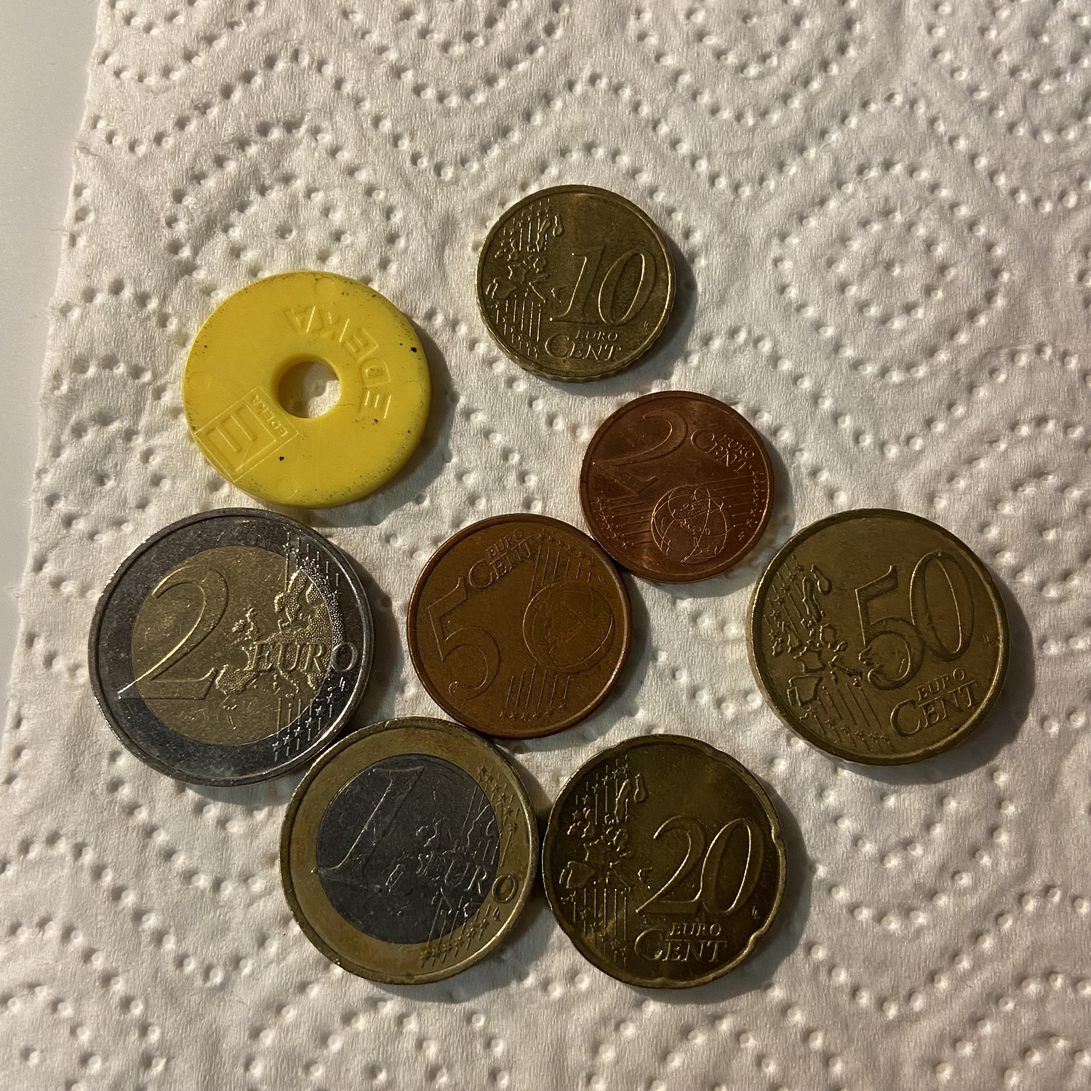1 euro: (280, 717, 539, 984)
10 cent: (476, 185, 675, 382)
2 cent: (580, 391, 774, 582)
2 euro: (87, 507, 380, 796)
20 cent: (542, 735, 785, 989)
5 cent: (407, 514, 631, 739)
50 cent: (743, 507, 1018, 767)
